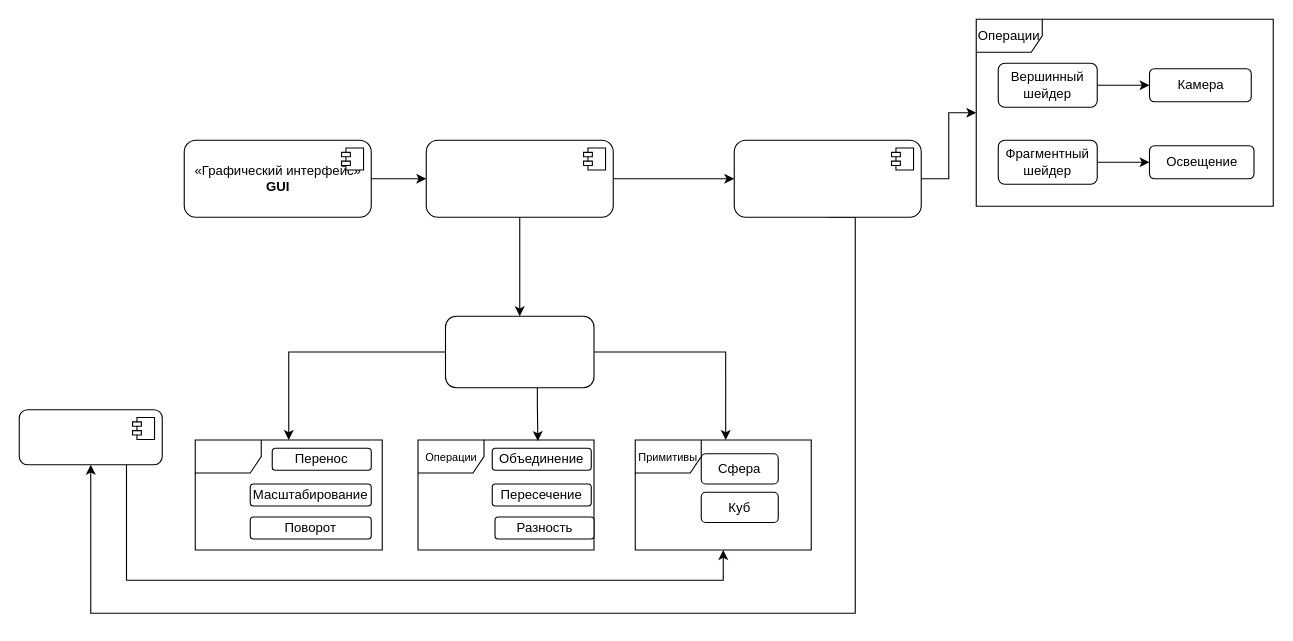
Image size: 1293x641. Some labels were removed from this diagram. The box of each missing label's shape, as (x1, y1, x2, y2) in pixels:
SDF: (18, 409, 162, 465)
«Визуализация» Rendering: (733, 139, 921, 217)
«Моделирование объекта» Processing: (425, 139, 613, 217)
Единица моделирования(Узел): (444, 315, 594, 388)
Преобра-я: (194, 439, 382, 550)
